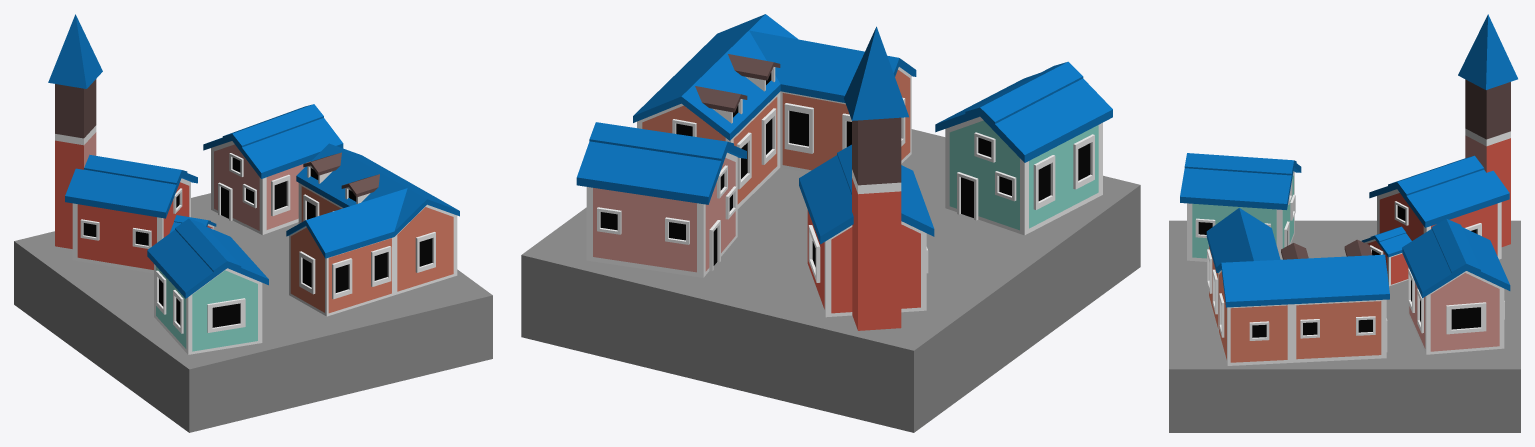
3 views of the same model, side by side, from view 1: azimuth 30°, elevation 25°; view 2: azimuth 150°, elevation 25°; view 3: azimuth 270°, elevation 25° (orthographic). The views are drawn at different scales.
Parts seen in each view (by area): view 1: Mesh_1x1_v1, Mesh_1x1_v1.001; view 2: Mesh_1x1_v1, Mesh_1x1_v1.001; view 3: Mesh_1x1_v1, Mesh_1x1_v1.001.
Part boxes in pixels (<box>): Mesh_1x1_v1: <box>48,14,459,354</box>; Mesh_1x1_v1.001: <box>14,193,492,432</box>; Mesh_1x1_v1: <box>576,14,1112,330</box>; Mesh_1x1_v1.001: <box>521,129,1140,432</box>; Mesh_1x1_v1: <box>1180,14,1517,365</box>; Mesh_1x1_v1.001: <box>1169,220,1520,432</box>.
Size of the model in its own units: 100 by 91.77 by 100.
